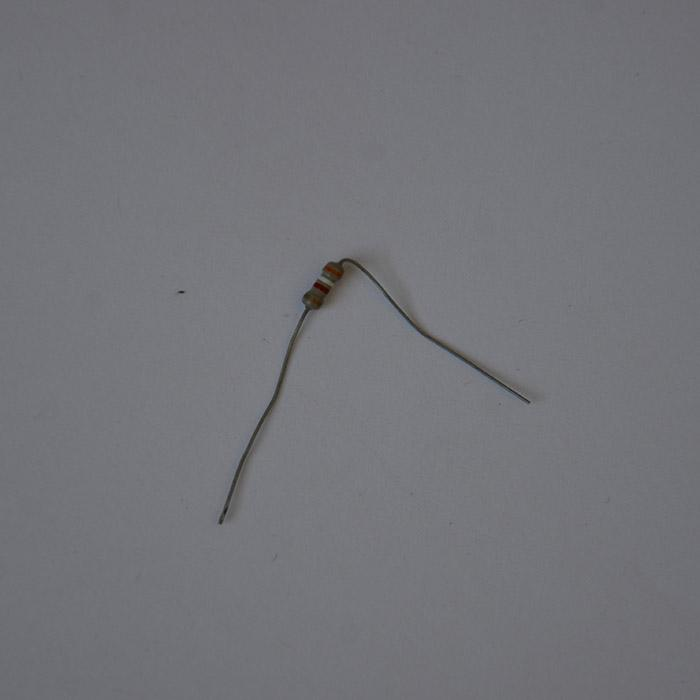resistor: (302, 260, 342, 311)
